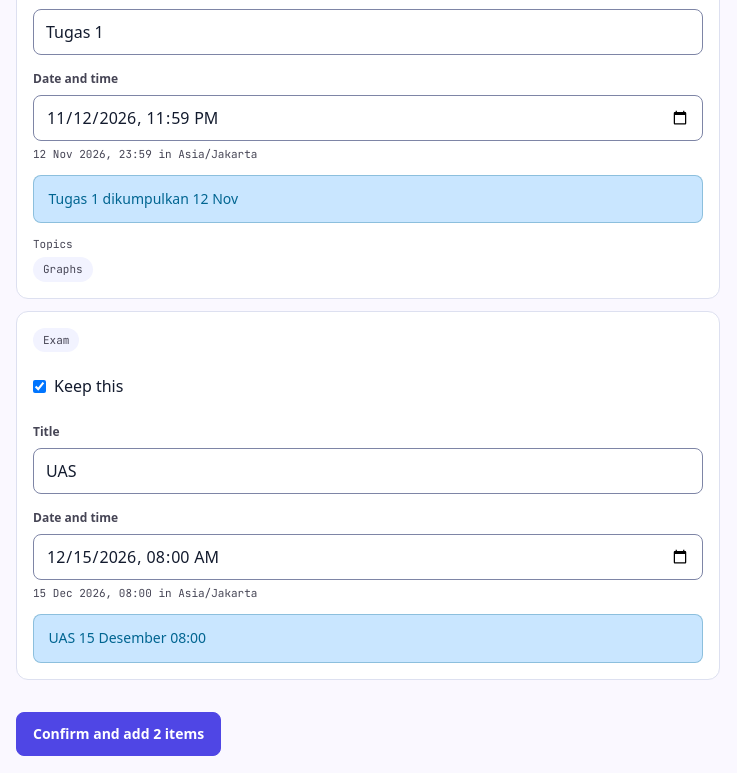
Test case: the syllabus review screen › shows every item with its evidence quote and writes nothing until Confirm
(page scrolled)
expect the text "Tugas 1 dikumpulkan 12 Nov" is shown: met, box [33,175,703,223]
expect the text "UAS 15 Desember 08:00" is shown: met, box [33,614,703,663]
Click the button "Confirm and add 2 items" at (119, 734), box [16,712,221,756]
(page scrolled)
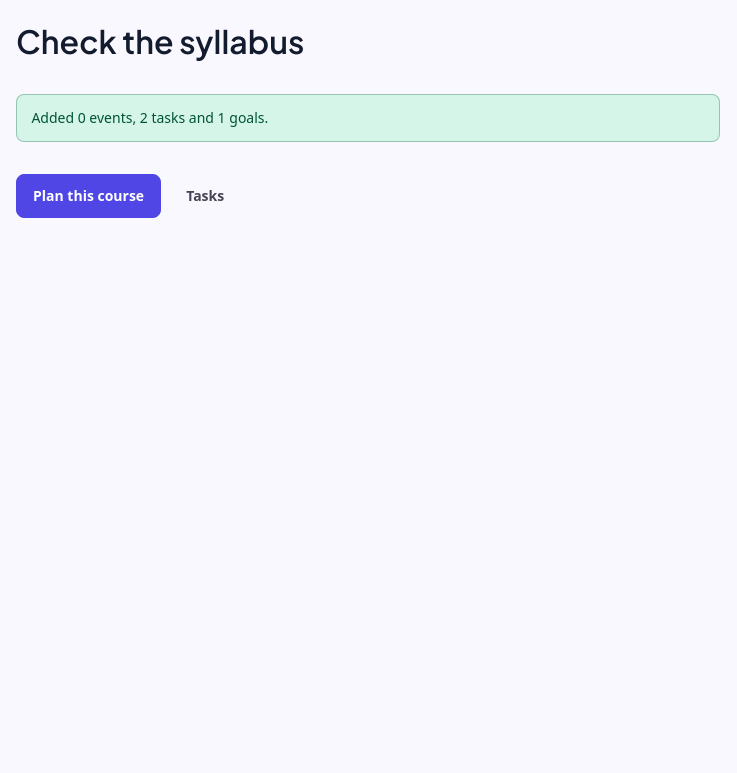
expect the text "Added 0 events, 2 tasks and 1 goals." is shown: met, box [16,94,720,142]
